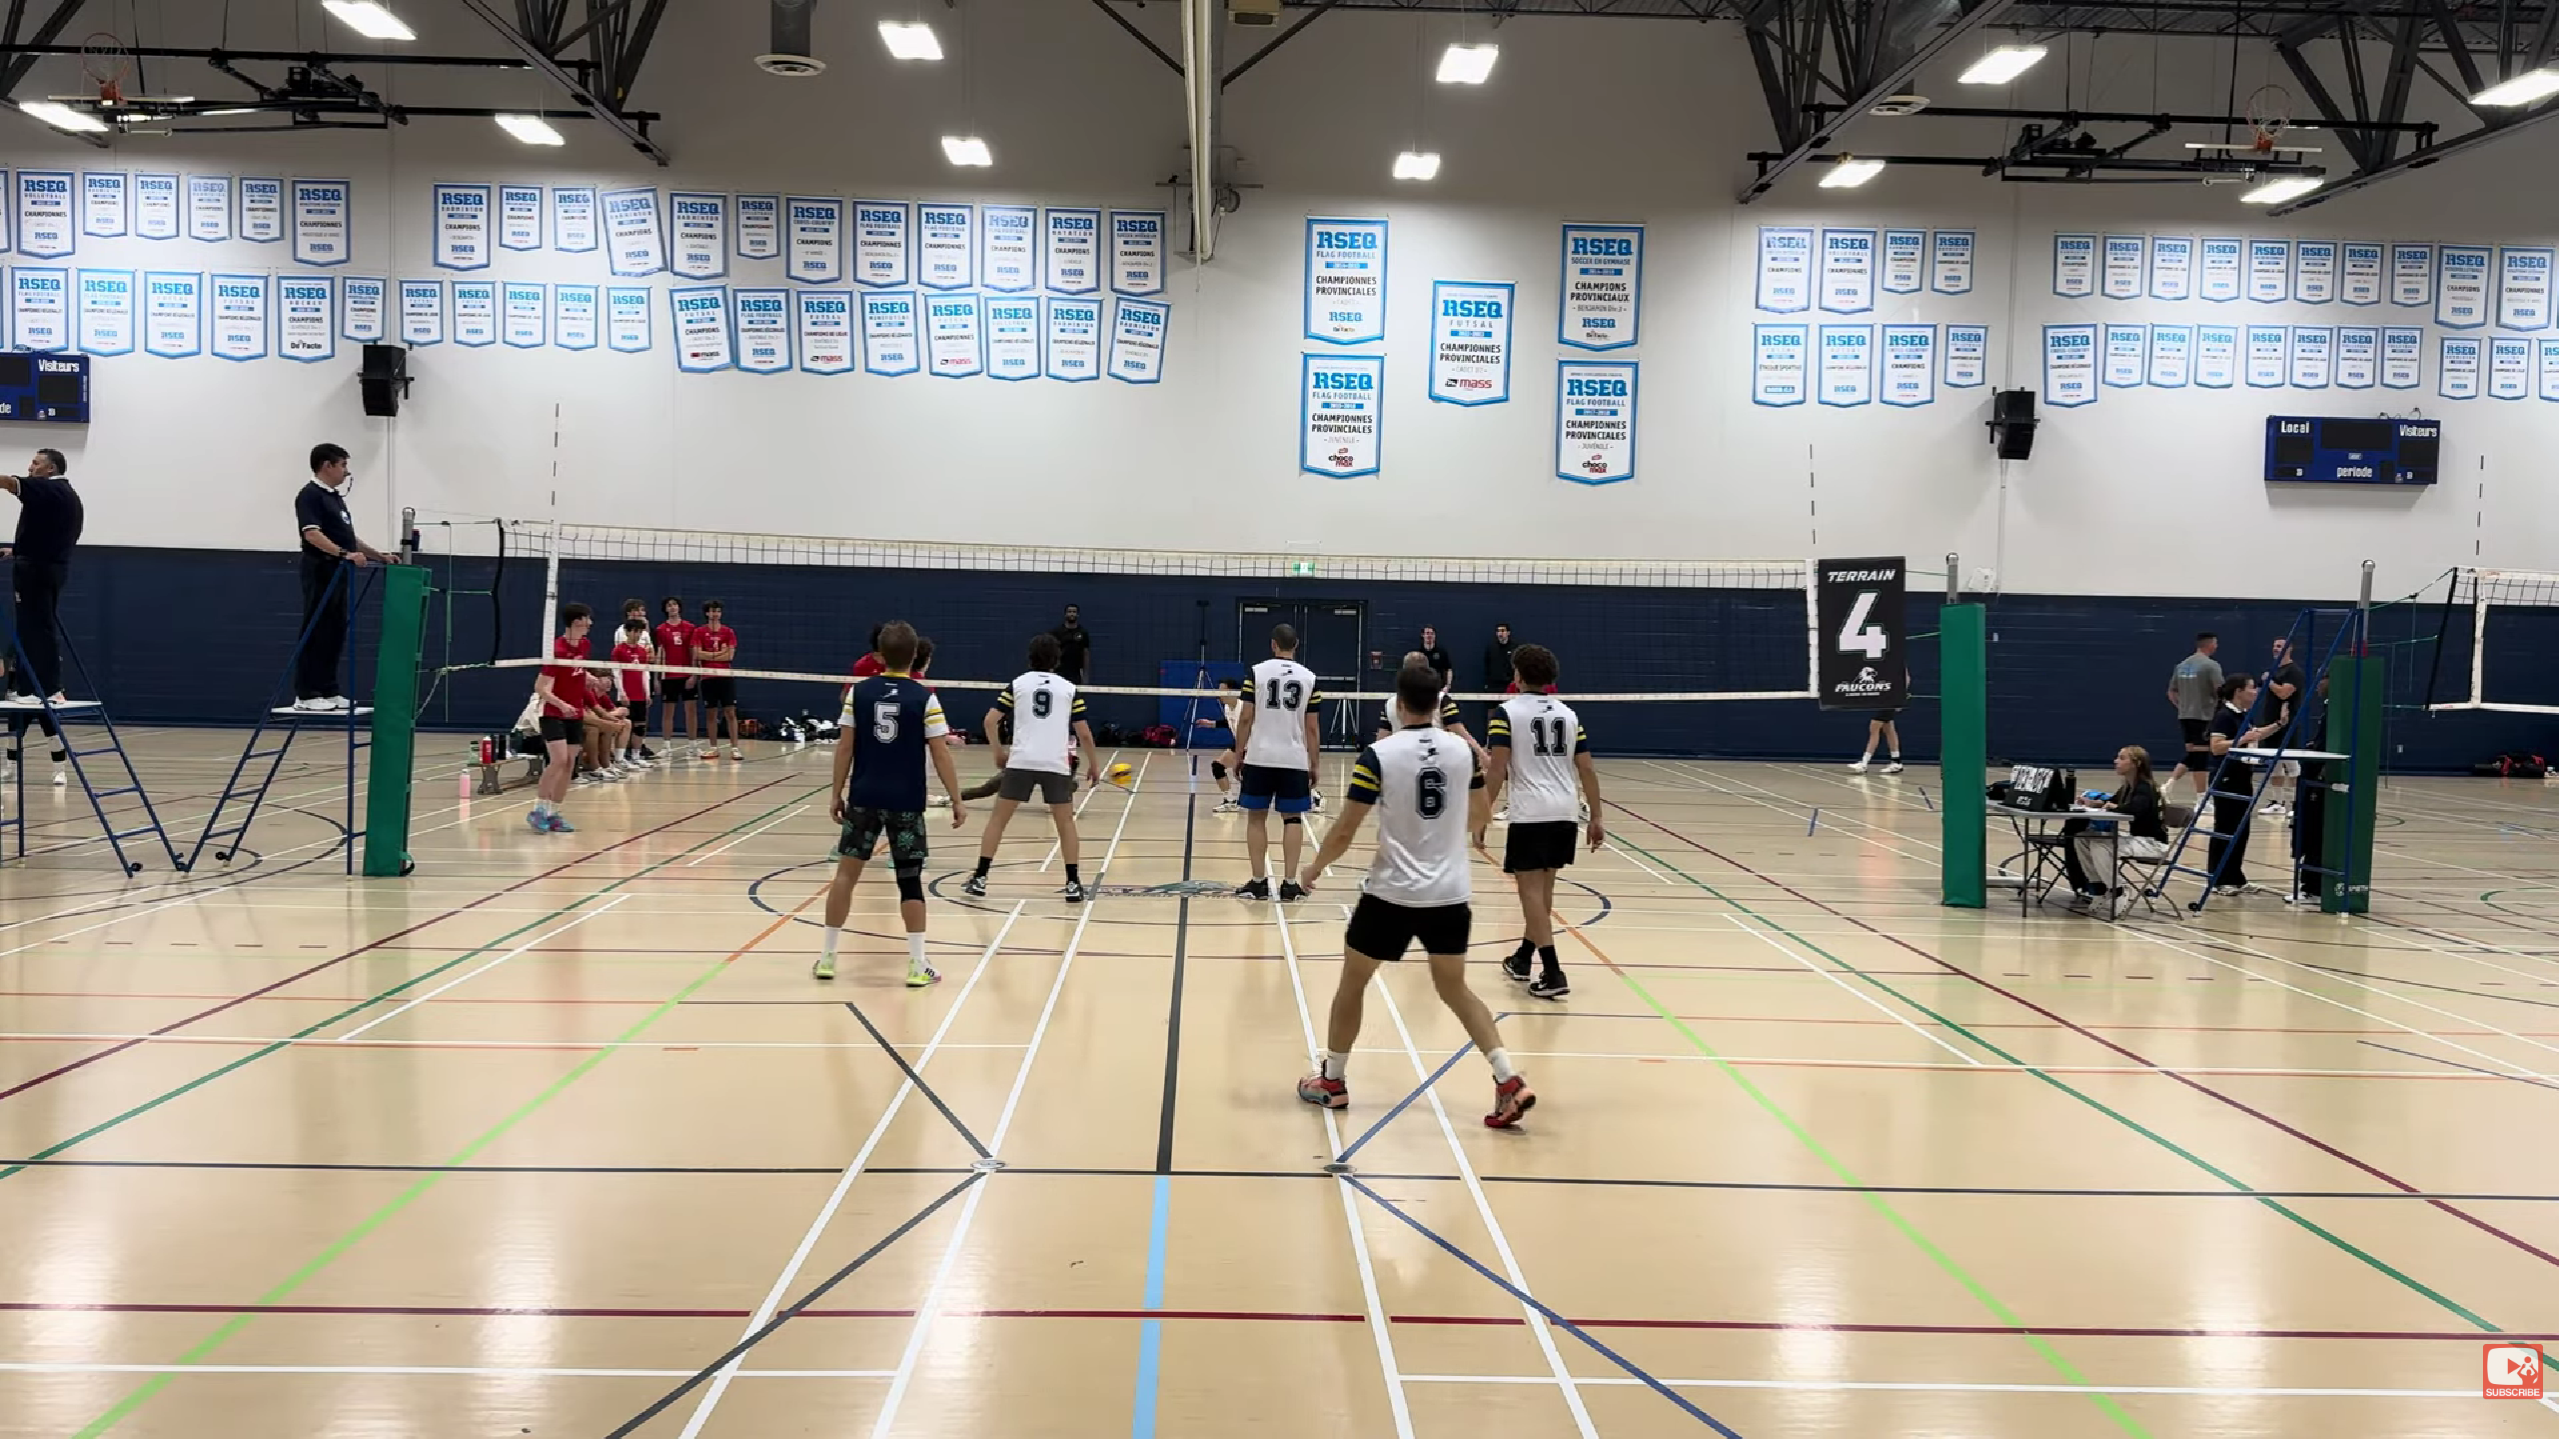Ball: (1109, 761, 1134, 785)
